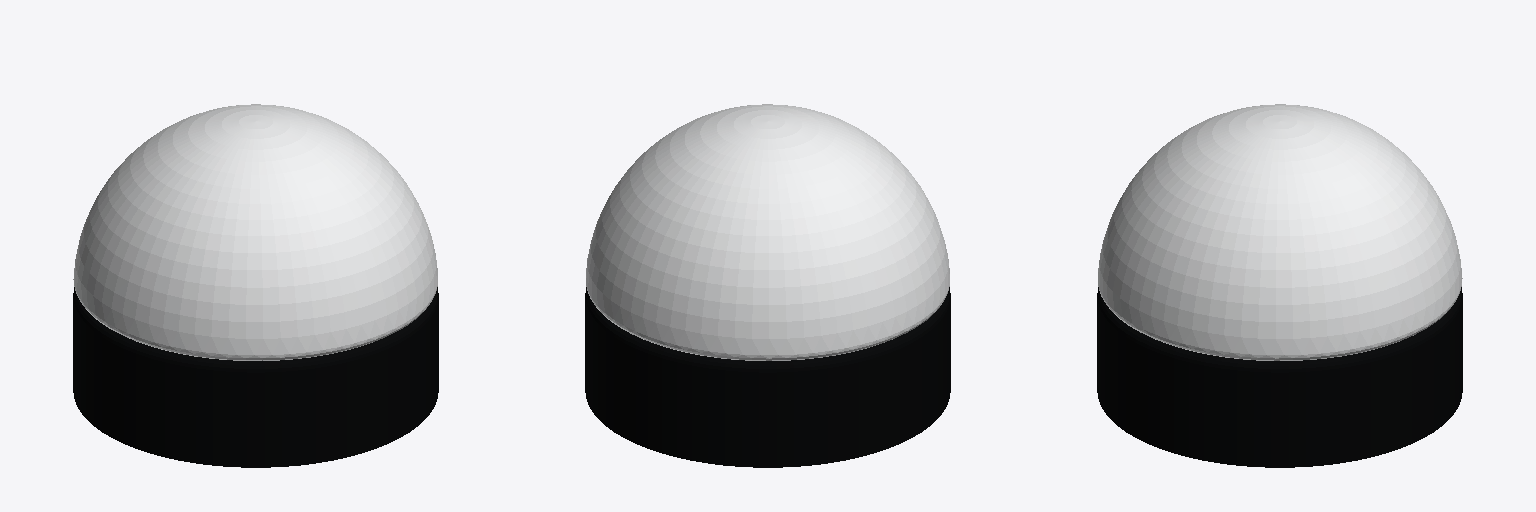
File: camera.obj
3 views of the same model, side by side, from view 1: azimuth 30°, elevation 25°; view 2: azimuth 150°, elevation 25°; view 3: azimuth 270°, elevation 25° (orthographic).
Parts seen in each view (by area): view 1: camera_lens, camera_body; view 2: camera_lens, camera_body; view 3: camera_lens, camera_body.
Boxes of the visible parts, x1=… form: camera_lens: x1=73, y1=104, x2=437, y2=360; camera_body: x1=73, y1=287, x2=438, y2=467; camera_lens: x1=586, y1=104, x2=949, y2=360; camera_body: x1=585, y1=287, x2=950, y2=467; camera_lens: x1=1098, y1=104, x2=1462, y2=360; camera_body: x1=1097, y1=287, x2=1462, y2=467.
Size of the model in its own units: 0.0799 by 0.065 by 0.08.